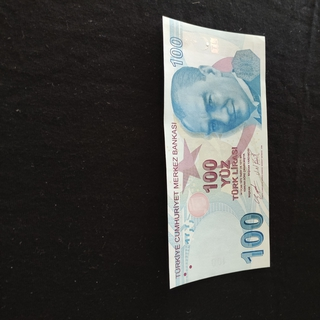100TLFront: (161, 14, 271, 289)
